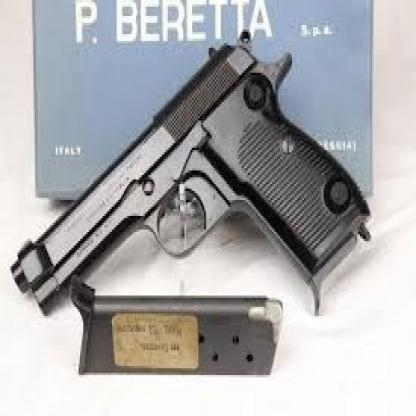Pistol: (8, 27, 371, 314)
